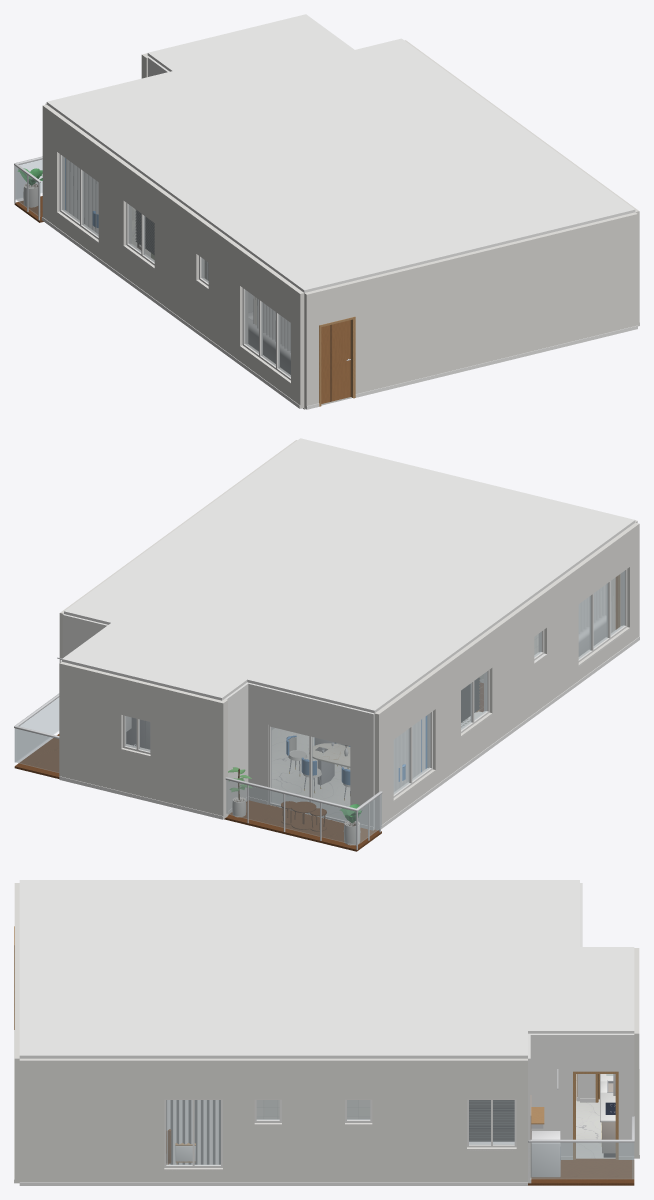
File: west-facing-blue.glb
3 renders of one model, top to bottom at view 1: azimuth 30°, elevation 25°; view 2: azimuth 150°, elevation 25°; view 3: azimuth 270°, elevation 25°, orthographic. The views are drawn at different scales.
Parts seen in each view (by area): view 1: Ceilings__Ceiling white, Structure__Exterior paint, Structure__Glass, Structure__Skirting white, Structure__Window frame white, Structure__Teak door leaf, Dining__Sheer white, Balcony__Glass, Living__Sofa fabric, Living__Sheer white, Structure__Door frame teak; view 2: Ceilings__Ceiling white, Structure__Exterior paint, Structure__Glass, Structure__Wall paint, Balcony__Glass, Structure__Window frame white, Floors__Wood deck, Floors__Marble floor, Structure__Skirting white, Dining__Sheer white, Balcony__Steel rail, Balcony_items (+4 smaller); view 3: Ceilings__Ceiling white, Structure__Exterior paint, Structure__Wall paint, Structure__Glass, Balcony__Glass, Master__Sheer white, Structure__Skirting white, Floors__Wood deck, Structure__Window frame white, Bed2__Blind black, Floors__Marble floor, Service__Washer white (+6 smaller).
Boxes of the visible parts, x1,y1,x2,y2 form: Ceilings__Ceiling white: (46, 14, 635, 292); Structure__Exterior paint: (42, 40, 639, 409); Structure__Glass: (62, 156, 290, 376); Structure__Skirting white: (42, 217, 639, 409); Structure__Window frame white: (57, 154, 290, 382); Structure__Teak door leaf: (321, 320, 350, 403); Dining__Sheer white: (66, 159, 98, 233); Balcony__Glass: (15, 159, 42, 216); Living__Sofa fabric: (248, 312, 290, 374); Living__Sheer white: (257, 299, 290, 352); Structure__Door frame teak: (319, 316, 355, 406); Ceilings__Ceiling white: (62, 438, 635, 713); Structure__Exterior paint: (59, 440, 639, 830); Structure__Glass: (125, 571, 625, 820); Structure__Wall paint: (59, 614, 374, 829); Balcony__Glass: (14, 697, 381, 845); Structure__Window frame white: (121, 569, 629, 822); Floors__Wood deck: (14, 734, 381, 851); Floors__Marble floor: (271, 711, 481, 819); Structure__Skirting white: (59, 636, 639, 830); Dining__Sheer white: (393, 717, 425, 791); Balcony__Steel rail: (14, 693, 382, 849); Balcony_items: (228, 767, 361, 845); Ceilings__Ceiling white: (19, 880, 634, 1058); Structure__Exterior paint: (14, 883, 639, 1183); Structure__Wall paint: (528, 883, 634, 1183); Structure__Glass: (166, 1100, 514, 1165); Balcony__Glass: (528, 1142, 634, 1179); Master__Sheer white: (166, 1100, 220, 1164); Structure__Skirting white: (14, 1030, 639, 1185); Floors__Wood deck: (528, 1158, 634, 1185); Structure__Window frame white: (164, 1099, 516, 1170); Bed2__Blind black: (469, 1100, 514, 1141); Floors__Marble floor: (576, 1074, 615, 1158); Service__Washer white: (531, 1131, 560, 1177).
Bounding box in the file's own units: 9.55 × 3.17 × 13.86.
Materials: 155 (34 with a texture image).
